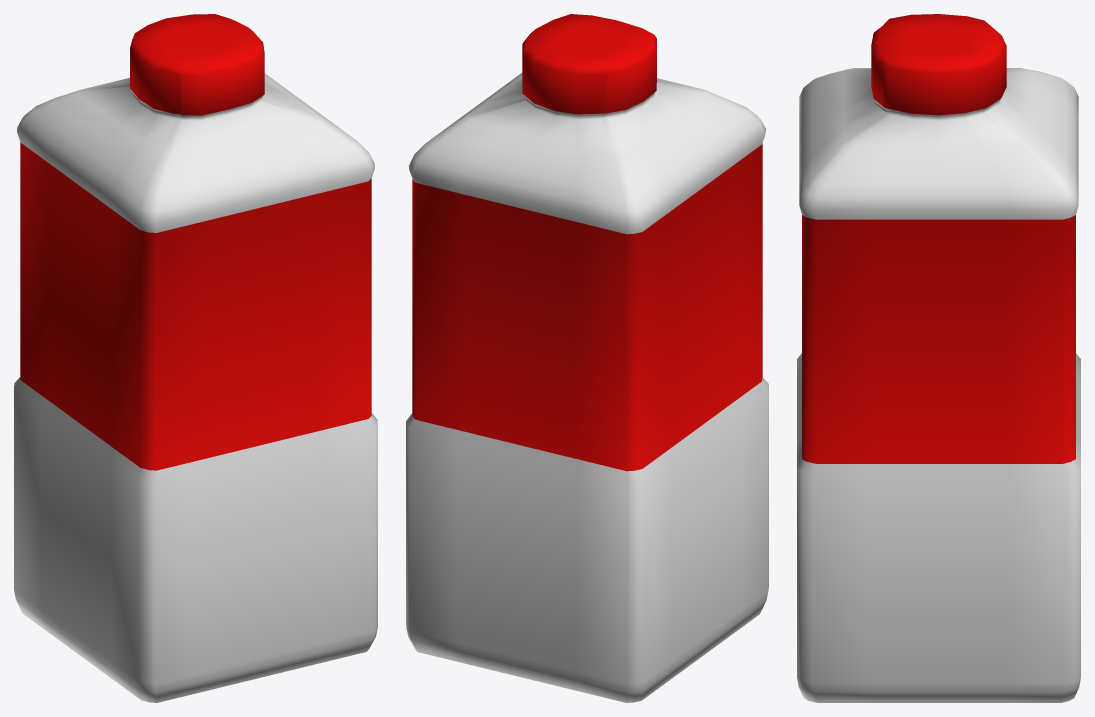
The model's file is MilkBottle.fbx.
3 renders of one model, left to right at view 1: azimuth 30°, elevation 25°; view 2: azimuth 150°, elevation 25°; view 3: azimuth 270°, elevation 25°, orthographic. The views are drawn at different scales.
Visible parts, largest first — view 1: Cube; view 2: Cube; view 3: Cube.
Boxes of the visible parts, x1,y1,x2,y2 form: Cube: [14, 14, 377, 702]; Cube: [406, 14, 768, 702]; Cube: [797, 14, 1080, 702].
Bounding box in the file's own units: 301 × 709 × 301.
